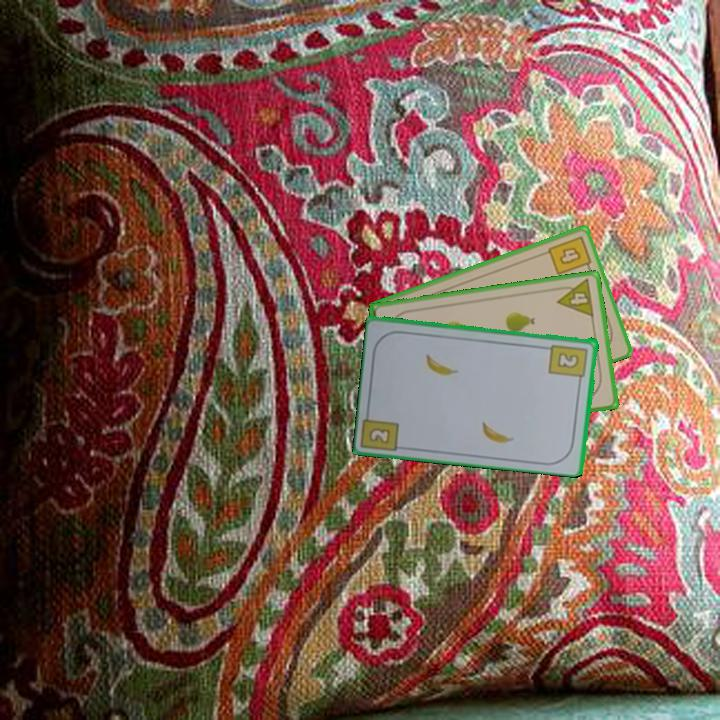2b: (546, 340, 591, 386), (365, 424, 393, 446)
4b: (544, 232, 594, 278)
4p: (552, 276, 597, 320)
